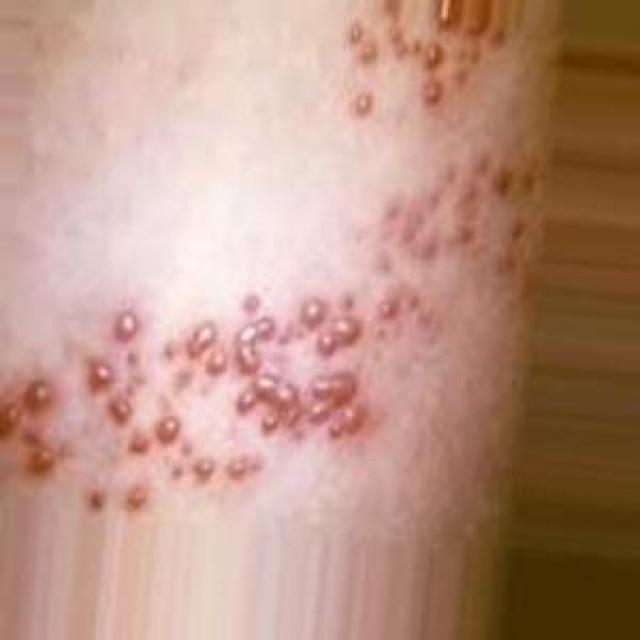Shingles: (0, 289, 433, 521), (369, 156, 540, 278), (339, 0, 506, 122)
